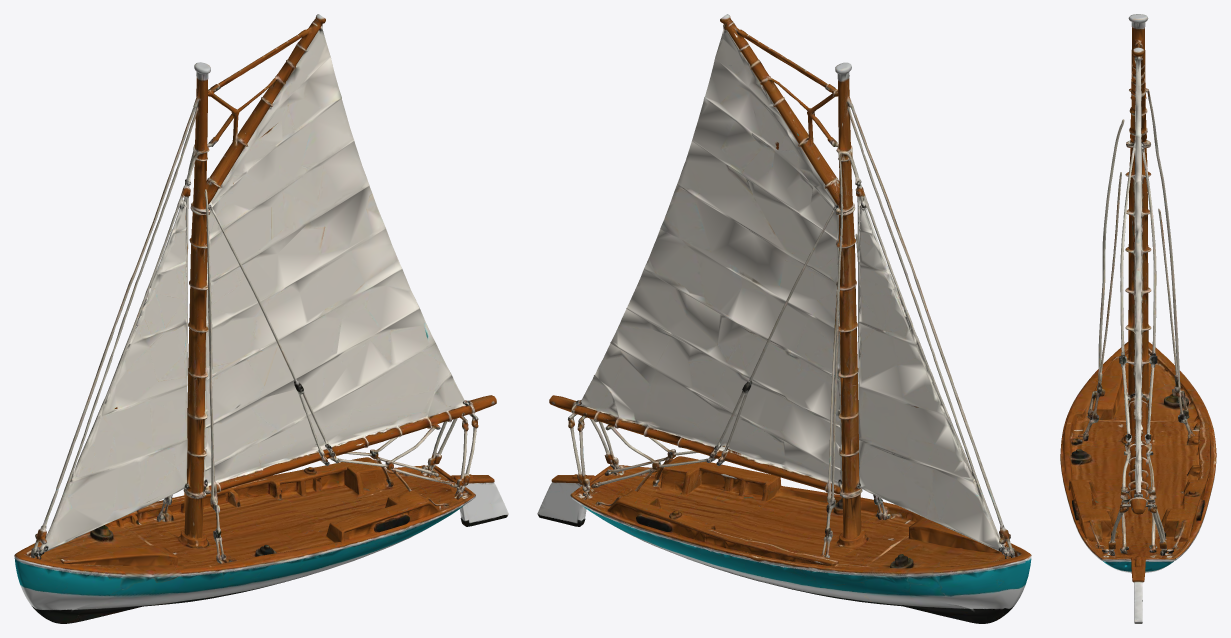
Rendered from bac.glb.
3 renders of one model, left to right at view 1: azimuth 30°, elevation 25°; view 2: azimuth 150°, elevation 25°; view 3: azimuth 270°, elevation 25°, orthographic. The views are drawn at different scales.
Visible parts, largest first — view 1: Vela, Casco, Foc, Leme; view 2: Vela, Casco, Foc, Leme; view 3: Casco, Vela, Leme.
Part boxes in pixels (x1,y1,x2,y2): Vela: [201, 14, 496, 493]; Casco: [14, 62, 478, 623]; Foc: [14, 114, 197, 559]; Leme: [468, 474, 508, 526]; Vela: [549, 14, 846, 492]; Casco: [568, 62, 1031, 623]; Foc: [848, 113, 1031, 559]; Leme: [537, 474, 577, 526]; Casco: [1060, 14, 1216, 601]; Vela: [1124, 16, 1152, 514]; Leme: [1131, 562, 1145, 623].
Bounding box in the file's own units: 11.51 × 12.25 × 3.5.
1 material, 1 textured.
